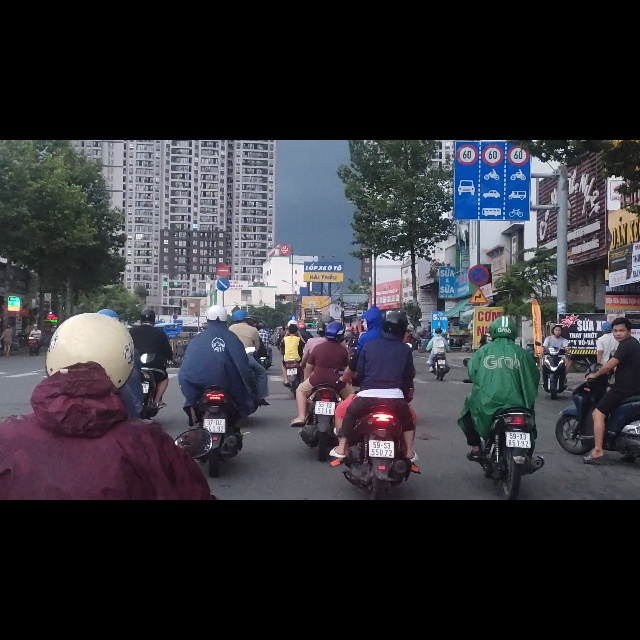bien_nguy_hiem: (455, 50, 530, 145), (481, 6, 505, 47), (455, 5, 478, 46), (468, 222, 491, 260), (507, 10, 529, 46), (469, 263, 488, 291), (216, 220, 231, 244), (216, 247, 230, 268), (356, 301, 364, 318)
